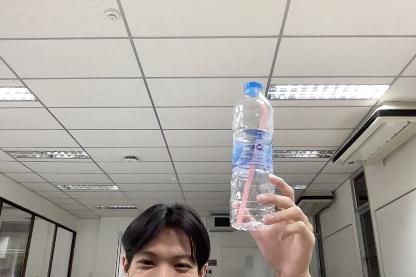Plastic Bottle: (228, 82, 281, 234)
